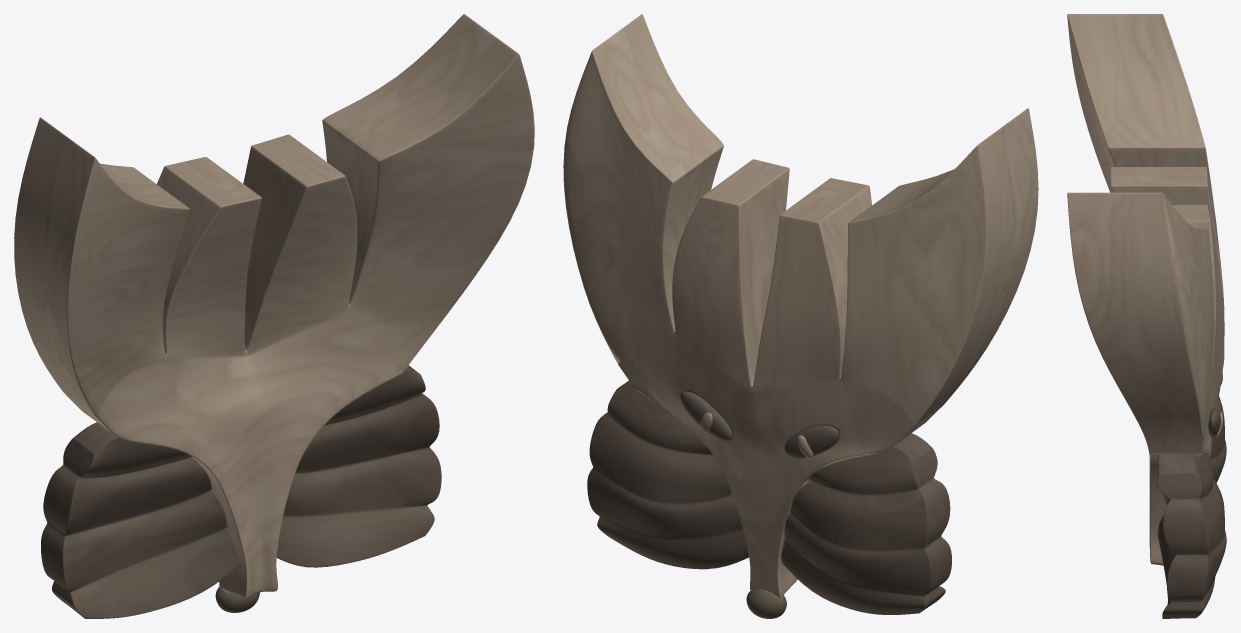
File: renard.fbx
3 views of the same model, side by side, from view 1: azimuth 30°, elevation 25°; view 2: azimuth 150°, elevation 25°; view 3: azimuth 270°, elevation 25° (orthographic). The views are drawn at different scales.
Parts seen in each view (by area): view 1: Renard LOW; view 2: Renard LOW; view 3: Renard LOW.
Boxes of the visible parts, x1,y1,x2,y2 form: Renard LOW: (14, 14, 534, 618); Renard LOW: (563, 14, 1038, 618); Renard LOW: (1067, 14, 1226, 618).
Bounding box in the file's own units: 66.38 × 76.67 × 22.95.
1 material, 1 textured.
